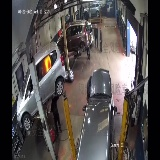fire: (43, 51, 53, 76)
